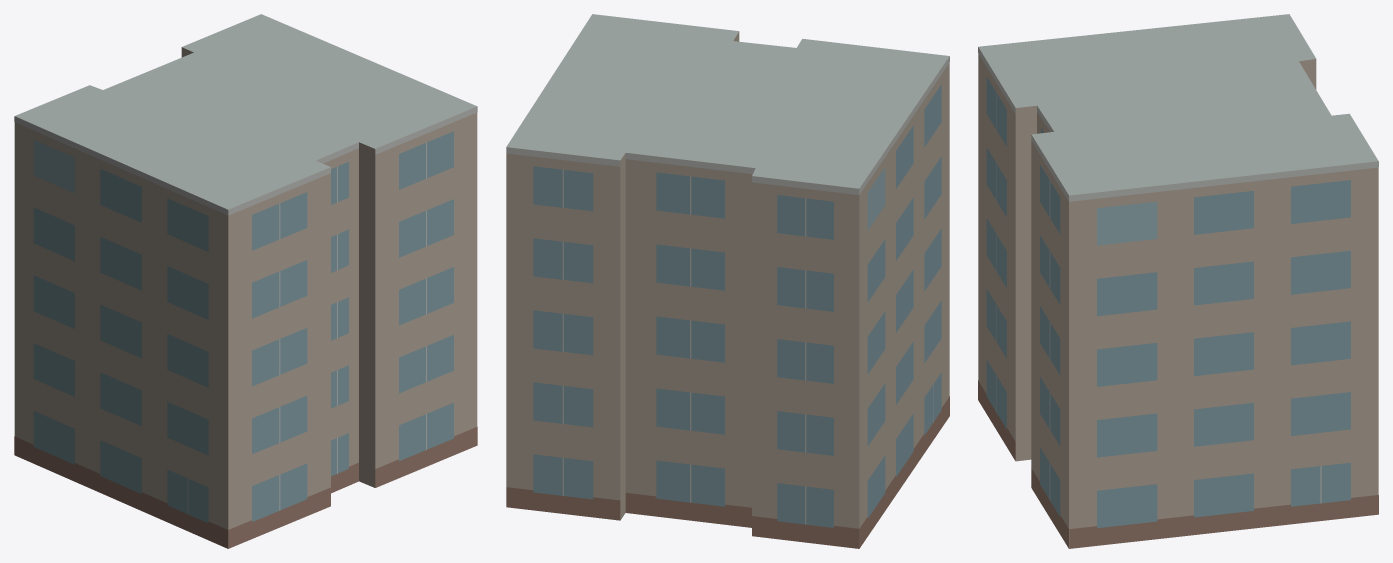
File: survey-upis-32710429.glb
3 views of the same model, side by side, from view 1: azimuth 30°, elevation 25°; view 2: azimuth 150°, elevation 25°; view 3: azimuth 270°, elevation 25° (orthographic). The views are drawn at different scales.
Visible parts, largest first — view 1: survey-upis-32710429.tmp; view 2: survey-upis-32710429.tmp; view 3: survey-upis-32710429.tmp.
Part boxes in pixels (left/top/right/bottom): survey-upis-32710429.tmp: left=14, top=14, right=477, bottom=548; survey-upis-32710429.tmp: left=506, top=14, right=949, bottom=548; survey-upis-32710429.tmp: left=978, top=14, right=1378, bottom=548.
Size of the model in its own units: 15.33 by 13.9 by 14.3.
